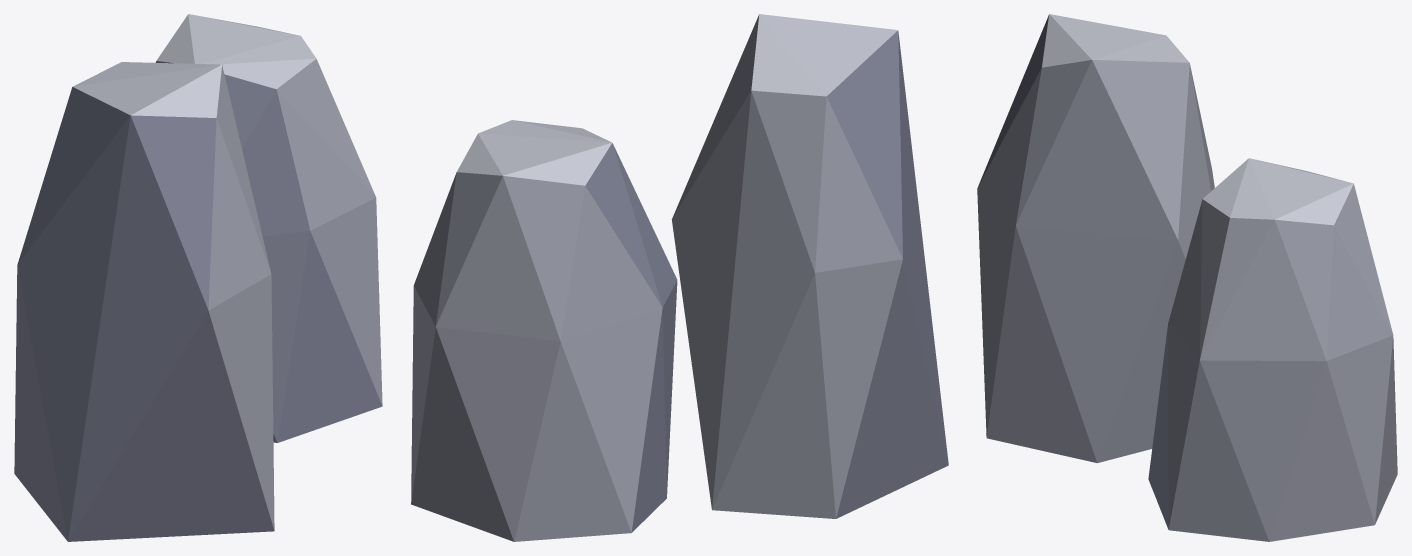
The model's file is rocks-high.glb.
3 renders of one model, left to right at view 1: azimuth 30°, elevation 25°; view 2: azimuth 150°, elevation 25°; view 3: azimuth 270°, elevation 25°, orthographic. The views are drawn at different scales.
Visible parts, largest first — view 1: rocks-high; view 2: rocks-high; view 3: rocks-high.
Boxes of the visible parts, x1,y1,x2,y2 form: rocks-high: [14, 14, 382, 541]; rocks-high: [411, 14, 948, 541]; rocks-high: [977, 14, 1397, 541].
Size of the model in its own units: 1 by 1 by 1.
1 material, 1 textured.
